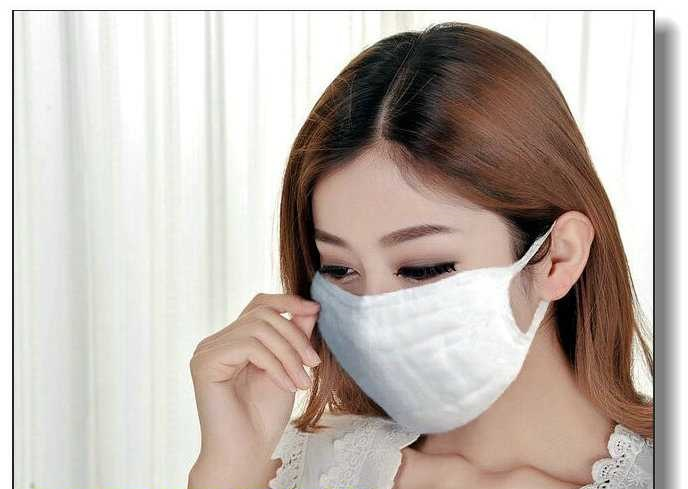face_mask: (310, 159, 526, 441)
